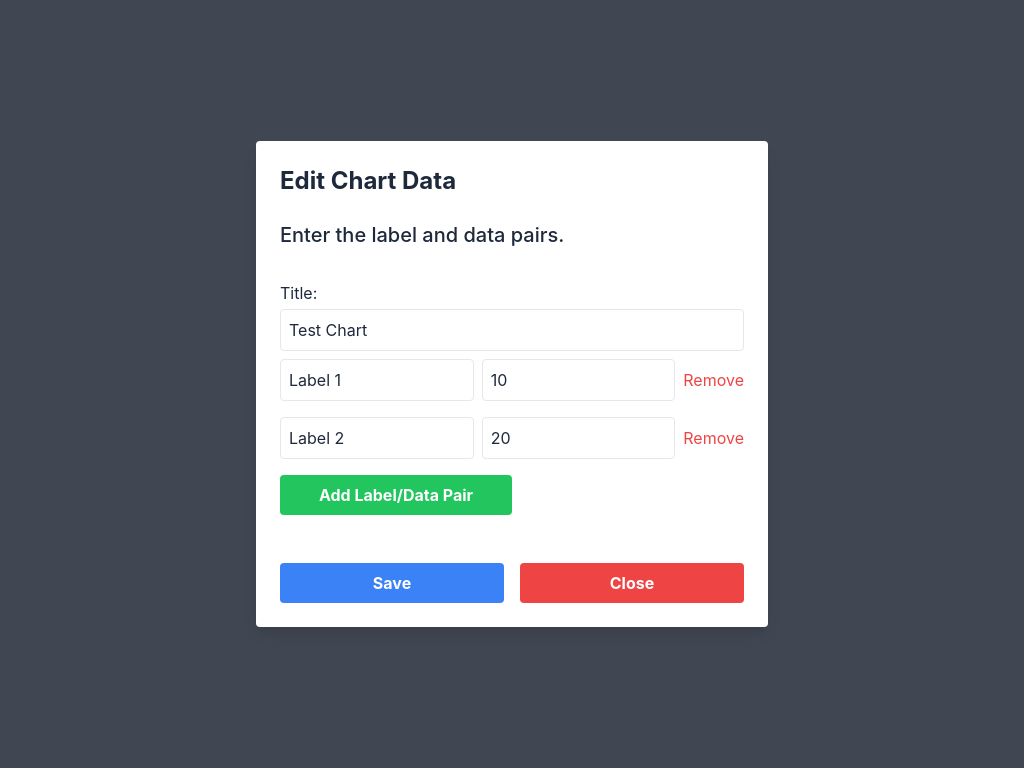
PieChartPopup › allows adding a new label/data pair
Click the button "Add Label/Data Pair" at (396, 495), box [280,475,512,515]
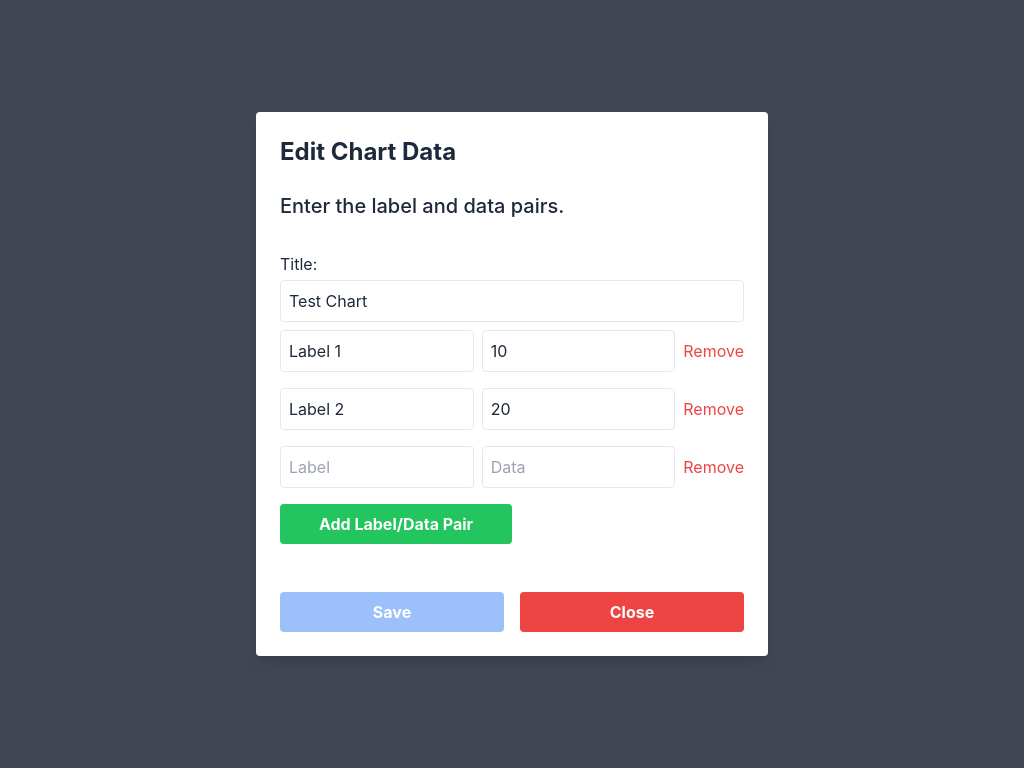
Check: the number of fields with placeholder "Label" is 3, box [280,330,474,372]; [280,388,474,430]; [280,446,474,488]
Check: the number of fields with placeholder "Data" is 3, box [482,330,675,372]; [482,388,675,430]; [482,446,675,488]
